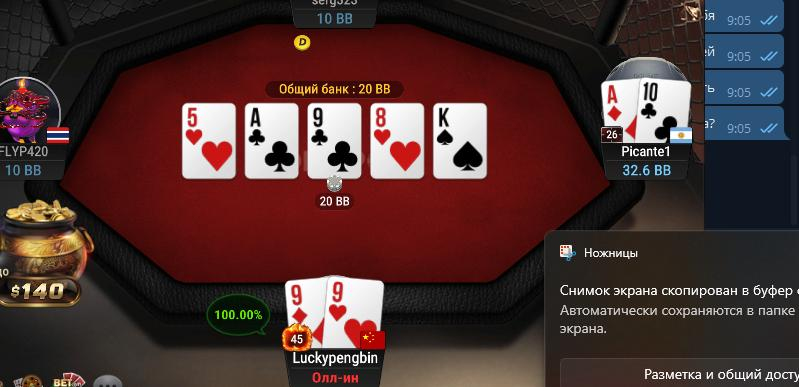10c: (638, 76, 691, 141)
5h: (182, 104, 236, 178)
8h: (371, 104, 424, 178)
9c: (307, 102, 362, 178)
9d: (284, 280, 325, 349)
9h: (325, 275, 382, 352)
Ac: (245, 105, 299, 177)
Ad: (599, 81, 637, 144)
Ks: (434, 104, 486, 179)
